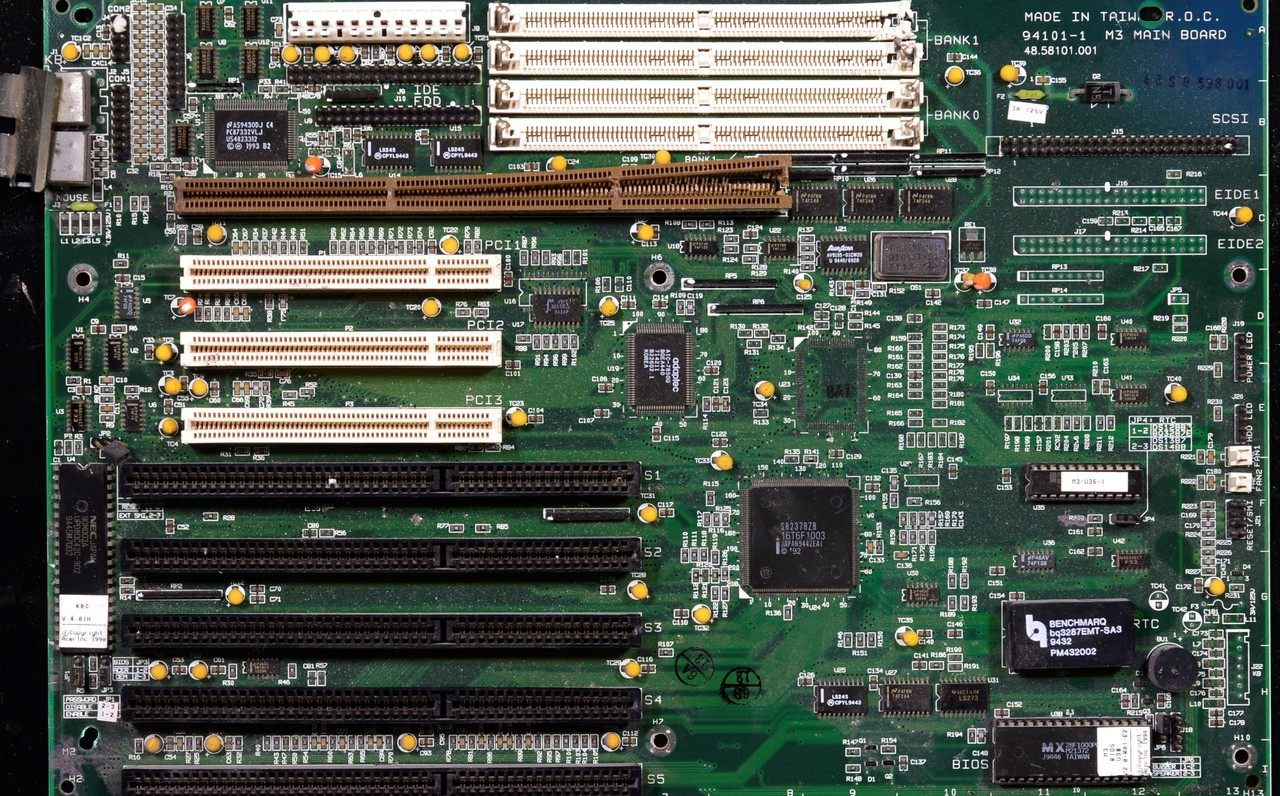Capacitor: (132, 105, 148, 117), (132, 50, 148, 61), (1208, 335, 1219, 351), (1086, 546, 1104, 555), (149, 88, 165, 98), (150, 135, 166, 145), (150, 59, 164, 70), (132, 42, 149, 51), (148, 42, 165, 51), (307, 669, 316, 686), (1097, 323, 1106, 340), (131, 32, 148, 41), (597, 383, 614, 392), (149, 69, 164, 79), (977, 728, 986, 744), (131, 4, 149, 12), (149, 79, 165, 88), (136, 115, 148, 127), (419, 129, 428, 145), (148, 13, 164, 22), (193, 228, 202, 244), (146, 23, 164, 31), (91, 44, 101, 58), (133, 97, 147, 107), (150, 126, 164, 136), (1052, 325, 1062, 339), (711, 439, 728, 447), (916, 630, 933, 638), (1035, 77, 1052, 85), (132, 14, 149, 22), (1148, 217, 1165, 225), (99, 405, 116, 413), (1088, 527, 1103, 536), (211, 665, 226, 674), (868, 675, 877, 690), (1121, 693, 1130, 708), (149, 98, 164, 107), (150, 108, 165, 117), (326, 148, 341, 157), (182, 162, 197, 171), (834, 313, 843, 328), (986, 324, 995, 339), (144, 344, 153, 359), (148, 32, 163, 41), (210, 381, 219, 396), (164, 399, 173, 414), (135, 22, 148, 32), (1009, 591, 1025, 599), (418, 727, 434, 735), (307, 149, 323, 157), (241, 240, 249, 256), (90, 326, 106, 334), (703, 366, 719, 374), (906, 372, 922, 380), (233, 380, 241, 396), (674, 608, 688, 617), (622, 737, 636, 746), (457, 735, 466, 749), (189, 98, 198, 112), (133, 136, 147, 145), (232, 307, 241, 321), (712, 397, 721, 411), (1207, 450, 1215, 465), (865, 483, 880, 491), (945, 53, 960, 61), (995, 709, 1010, 717), (375, 735, 383, 750), (320, 736, 328, 751), (150, 118, 165, 126), (428, 240, 436, 255), (116, 274, 131, 282), (814, 311, 829, 319), (906, 314, 921, 322), (1208, 720, 1225, 727), (134, 70, 147, 79), (652, 427, 660, 441), (1003, 468, 1011, 482), (890, 475, 898, 489), (1207, 475, 1215, 489), (927, 512, 935, 526), (166, 519, 174, 533), (362, 45, 369, 61), (475, 47, 483, 61), (866, 540, 874, 554), (442, 48, 450, 62), (272, 47, 279, 63), (601, 585, 615, 593), (133, 61, 147, 69), (172, 667, 186, 675), (419, 738, 433, 746), (900, 756, 908, 770), (148, 4, 162, 12), (354, 126, 361, 142), (133, 155, 147, 163), (615, 277, 623, 291), (855, 281, 871, 288), (845, 281, 853, 295), (976, 300, 992, 307), (180, 377, 188, 391), (1039, 379, 1047, 393), (987, 380, 994, 396), (528, 414, 542, 422), (1035, 416, 1043, 430), (946, 630, 964, 636), (55, 439, 62, 454), (829, 450, 844, 457), (658, 509, 673, 516), (302, 529, 317, 536), (148, 52, 163, 59), (1208, 690, 1223, 697), (167, 735, 174, 750), (168, 214, 175, 229), (744, 231, 759, 238), (243, 381, 250, 396), (76, 387, 91, 394), (1201, 520, 1214, 528), (251, 595, 264, 603), (338, 737, 346, 750), (151, 146, 164, 154), (525, 162, 538, 170), (232, 240, 240, 253), (274, 23, 282, 36), (686, 301, 694, 314), (242, 307, 250, 320), (252, 383, 260, 396), (1207, 631, 1224, 637), (950, 464, 957, 478), (1201, 511, 1215, 518), (387, 47, 394, 61), (226, 735, 233, 749), (311, 735, 318, 749), (506, 737, 513, 751), (177, 737, 184, 751), (134, 128, 148, 135), (621, 301, 635, 308), (653, 301, 667, 308), (276, 370, 290, 377), (1103, 379, 1110, 393), (594, 410, 608, 417), (1200, 559, 1216, 565), (913, 661, 925, 669), (1157, 695, 1165, 707), (1195, 578, 1202, 591), (641, 665, 654, 672), (1210, 670, 1223, 677), (524, 736, 531, 749), (307, 85, 320, 92), (135, 90, 148, 97), (135, 146, 148, 153), (506, 361, 519, 368), (722, 397, 729, 410), (84, 42, 90, 57), (103, 45, 109, 60), (250, 586, 265, 592), (1165, 218, 1180, 224), (1207, 652, 1224, 657), (895, 552, 907, 559), (991, 568, 1003, 575), (1205, 616, 1219, 622), (1209, 710, 1223, 716), (477, 736, 484, 748), (496, 735, 502, 749), (135, 81, 147, 88), (225, 8, 232, 20), (1099, 218, 1113, 224), (925, 291, 939, 297), (100, 377, 114, 383), (800, 678, 813, 684), (103, 25, 108, 39), (367, 737, 373, 748), (306, 48, 311, 60)
Connector: (125, 681, 644, 728), (121, 538, 641, 579), (118, 462, 642, 499), (124, 612, 644, 646), (489, 113, 926, 152), (489, 1, 919, 37), (487, 39, 924, 74), (488, 80, 925, 114), (180, 330, 505, 368), (183, 408, 503, 444), (180, 254, 502, 288), (284, 3, 469, 43), (1001, 135, 1239, 158), (285, 65, 483, 84), (312, 104, 481, 124)
IC: (739, 481, 859, 600), (993, 718, 1153, 788), (53, 464, 113, 649), (627, 324, 694, 416), (214, 101, 291, 167), (938, 675, 989, 720), (817, 677, 867, 720), (432, 135, 483, 174), (819, 233, 867, 272), (883, 677, 932, 715), (844, 185, 898, 219), (364, 134, 413, 170), (790, 184, 839, 219), (903, 185, 953, 219), (533, 294, 582, 325), (821, 238, 867, 271), (1016, 550, 1056, 573), (192, 7, 220, 37), (239, 6, 265, 38), (1004, 327, 1036, 350), (67, 338, 90, 370), (684, 238, 719, 259), (1114, 384, 1149, 405), (997, 387, 1035, 406), (765, 237, 795, 261), (121, 400, 144, 431), (1116, 330, 1150, 350), (172, 123, 193, 155), (1115, 550, 1150, 569), (69, 400, 90, 431), (106, 338, 125, 369), (1054, 385, 1085, 404), (197, 48, 217, 77), (242, 48, 260, 76)
Resistor: (1167, 169, 1182, 180), (168, 194, 177, 212), (254, 447, 271, 456), (131, 195, 140, 212), (140, 196, 149, 213), (233, 447, 252, 455), (659, 647, 674, 657), (287, 663, 297, 678), (415, 239, 425, 254), (519, 250, 529, 265), (572, 251, 582, 266), (1213, 407, 1223, 422), (118, 576, 134, 585), (848, 311, 864, 320), (946, 434, 957, 447), (1230, 582, 1244, 592), (133, 739, 143, 753), (297, 241, 307, 255), (319, 529, 336, 537), (698, 221, 715, 229), (752, 410, 769, 418), (1201, 538, 1216, 547), (959, 595, 968, 610), (948, 662, 963, 671), (186, 736, 195, 751), (328, 131, 337, 146), (251, 240, 260, 255), (339, 240, 348, 255), (367, 241, 376, 256), (563, 251, 572, 266), (265, 295, 274, 310), (112, 325, 127, 334), (551, 335, 560, 350), (926, 532, 937, 544), (842, 633, 853, 645), (937, 433, 947, 446), (709, 569, 719, 582), (580, 736, 590, 749), (899, 529, 907, 545), (918, 529, 926, 545), (166, 162, 182, 170), (178, 228, 186, 244), (602, 276, 610, 292), (746, 340, 762, 348), (67, 377, 83, 385), (1092, 379, 1100, 395), (899, 512, 908, 526), (533, 735, 542, 749), (562, 735, 571, 749), (341, 128, 350, 142), (358, 241, 367, 255), (1083, 415, 1092, 429), (1013, 416, 1022, 430), (1063, 416, 1072, 430), (1201, 501, 1216, 509), (590, 734, 598, 749), (385, 735, 393, 750), (880, 746, 895, 754), (270, 240, 278, 255), (456, 308, 471, 316), (813, 321, 828, 329), (1082, 324, 1090, 339), (1063, 324, 1071, 339), (1044, 325, 1052, 340), (1054, 415, 1062, 430), (1044, 416, 1052, 431), (448, 525, 465, 532), (256, 370, 273, 377), (120, 586, 133, 595), (317, 671, 326, 684), (542, 735, 551, 748), (234, 737, 243, 750), (290, 737, 299, 750), (150, 163, 163, 172), (329, 239, 338, 252), (405, 241, 414, 254), (974, 344, 983, 357), (985, 344, 994, 357), (1072, 416, 1081, 429), (1197, 450, 1205, 464), (908, 512, 916, 526), (1087, 516, 1103, 523), (909, 531, 917, 545), (948, 596, 956, 610), (929, 661, 943, 669), (486, 735, 494, 749), (467, 734, 474, 750), (258, 85, 272, 93), (292, 85, 306, 93), (159, 175, 175, 182), (388, 239, 396, 253), (464, 240, 472, 254), (348, 240, 356, 254), (114, 260, 128, 268), (676, 300, 684, 314), (194, 307, 202, 321), (1171, 315, 1187, 322), (933, 323, 947, 331), (1071, 325, 1079, 339), (755, 329, 769, 337), (1214, 361, 1221, 377), (933, 381, 947, 389), (300, 388, 314, 396), (906, 391, 922, 398), (283, 391, 297, 399), (931, 419, 947, 426), (1005, 415, 1012, 431), (866, 634, 877, 644), (202, 513, 220, 519), (855, 634, 864, 646), (300, 737, 309, 749), (569, 336, 578, 348), (906, 432, 913, 447), (65, 440, 72, 455), (784, 455, 799, 462), (1201, 568, 1216, 575), (948, 654, 963, 661), (89, 656, 96, 671), (264, 735, 271, 750), (846, 748, 861, 755), (846, 765, 861, 772), (318, 132, 325, 147), (682, 221, 697, 228), (543, 250, 550, 265), (742, 256, 757, 263), (872, 284, 887, 291), (855, 290, 870, 297), (472, 309, 487, 316), (214, 306, 221, 321), (770, 336, 785, 343), (1097, 416, 1104, 431), (1196, 475, 1204, 488), (908, 498, 921, 506), (875, 542, 883, 555), (948, 574, 956, 587), (229, 664, 237, 677), (1131, 695, 1139, 708), (515, 735, 523, 748), (281, 737, 289, 750), (276, 85, 289, 93), (1133, 216, 1146, 224), (836, 281, 844, 294), (738, 329, 751, 337), (532, 335, 540, 348), (934, 400, 947, 408), (1106, 416, 1114, 429), (721, 514, 730, 525), (570, 735, 579, 746), (74, 439, 81, 453), (90, 675, 97, 689), (968, 728, 975, 742), (358, 736, 365, 750), (114, 196, 121, 210), (475, 240, 482, 254), (800, 244, 814, 251), (397, 241, 404, 255), (261, 241, 268, 255), (532, 250, 539, 264), (908, 352, 922, 359), (934, 363, 948, 370), (125, 386, 139, 393), (908, 410, 922, 417), (908, 419, 922, 426), (891, 492, 897, 508), (703, 513, 711, 525), (262, 383, 270, 395), (99, 387, 115, 393), (99, 397, 115, 403), (918, 433, 925, 446), (928, 433, 935, 446), (1202, 529, 1215, 536), (690, 548, 697, 561), (681, 549, 688, 562), (280, 242, 287, 255), (205, 308, 212, 321), (1173, 324, 1186, 331), (908, 333, 921, 340), (908, 382, 921, 389), (703, 397, 710, 410), (693, 567, 699, 582), (785, 605, 791, 620), (553, 734, 559, 749), (1152, 266, 1167, 272), (848, 322, 863, 328), (931, 343, 946, 349), (706, 492, 714, 503), (377, 242, 385, 253), (803, 456, 817, 462), (373, 45, 379, 59), (1201, 548, 1215, 554), (700, 548, 707, 560), (712, 550, 719, 562), (961, 574, 967, 588), (721, 588, 728, 600), (449, 736, 456, 748), (330, 735, 336, 749), (1116, 218, 1130, 224), (801, 236, 815, 242), (290, 240, 296, 254), (744, 246, 758, 252), (801, 264, 815, 270), (542, 335, 549, 347), (561, 336, 568, 348), (1221, 336, 1227, 350), (931, 335, 947, 340), (195, 736, 201, 749), (274, 737, 280, 750), (348, 737, 354, 750), (725, 236, 738, 242), (800, 254, 813, 260), (908, 343, 921, 349), (722, 568, 728, 580), (713, 587, 719, 599), (725, 246, 737, 252), (934, 353, 946, 359), (934, 391, 946, 397), (1024, 419, 1031, 429), (702, 570, 708, 581), (476, 524, 489, 529), (225, 307, 230, 320), (933, 374, 946, 379), (920, 514, 925, 526), (909, 362, 921, 367), (713, 516, 719, 525), (516, 338, 529, 341)
